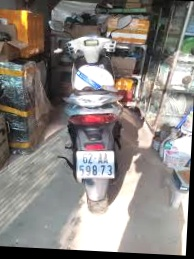Bien-so: (78, 161, 120, 191)
